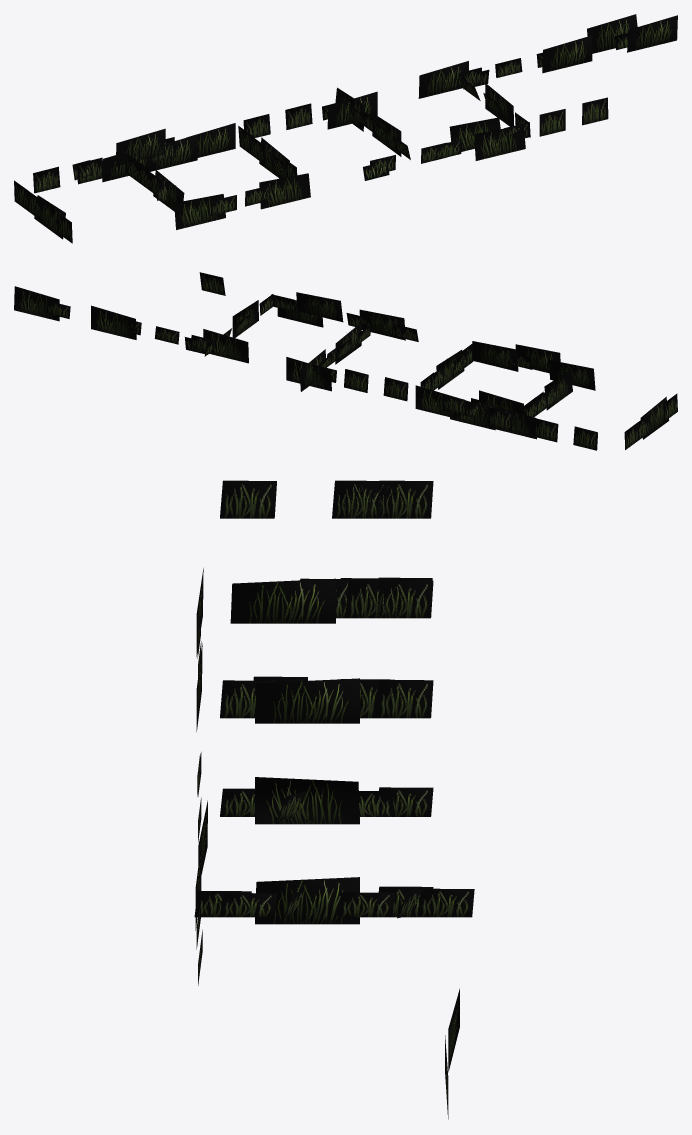
The model's file is Sidewalk_Small_Overgrowth_Medium.fbx.
3 views of the same model, one above another, from view 1: azimuth 30°, elevation 25°; view 2: azimuth 150°, elevation 25°; view 3: azimuth 270°, elevation 25° (orthographic). The views are drawn at different scales.
Visible parts, largest first — view 1: Sidewalk_Small_Overgrowth_Medium; view 2: Sidewalk_Small_Overgrowth_Medium; view 3: Sidewalk_Small_Overgrowth_Medium.
Boxes of the visible parts, box(x1,y1,x2,y2) form: Sidewalk_Small_Overgrowth_Medium: box(14, 14, 677, 243); Sidewalk_Small_Overgrowth_Medium: box(14, 272, 677, 450); Sidewalk_Small_Overgrowth_Medium: box(194, 480, 474, 1119).
Size of the model in its own units: 986 by 57.46 by 213.
